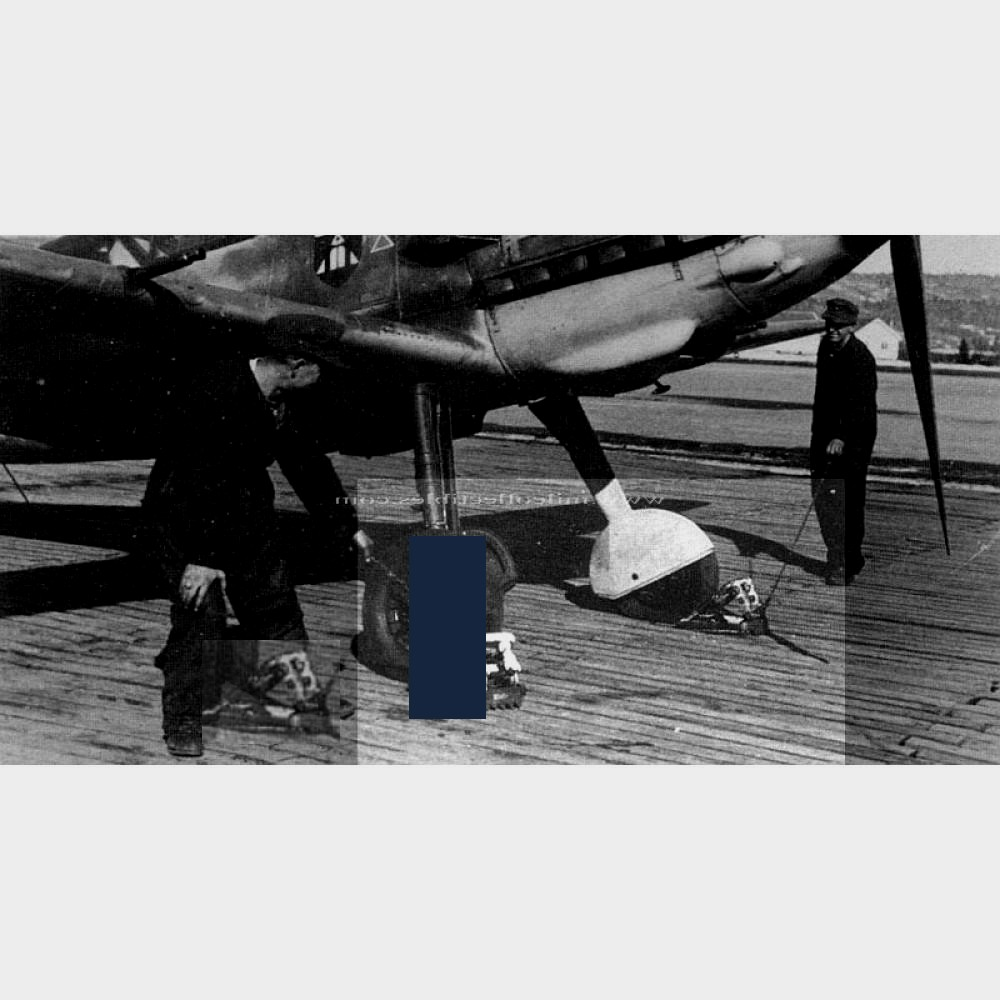chock: (202, 640, 340, 744), (403, 627, 527, 716), (680, 570, 774, 643)
wheel: (354, 526, 521, 682), (589, 500, 726, 621)
